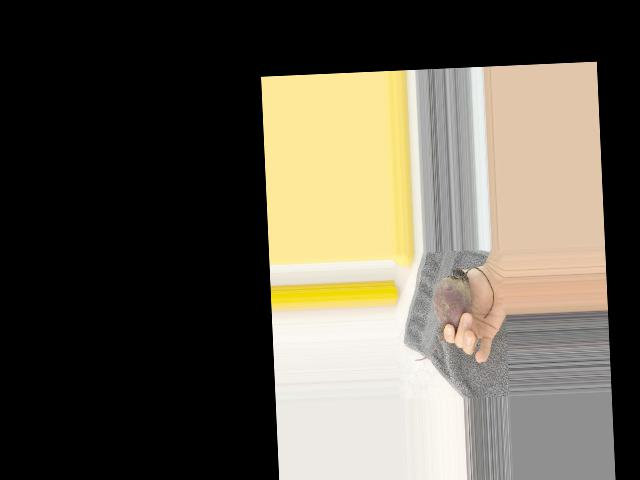beet: (411, 267, 497, 361)
